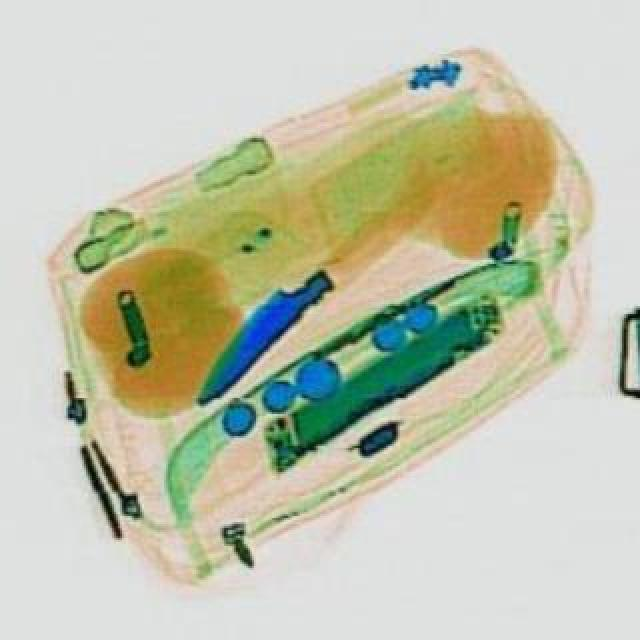knife: (180, 262, 344, 418)
